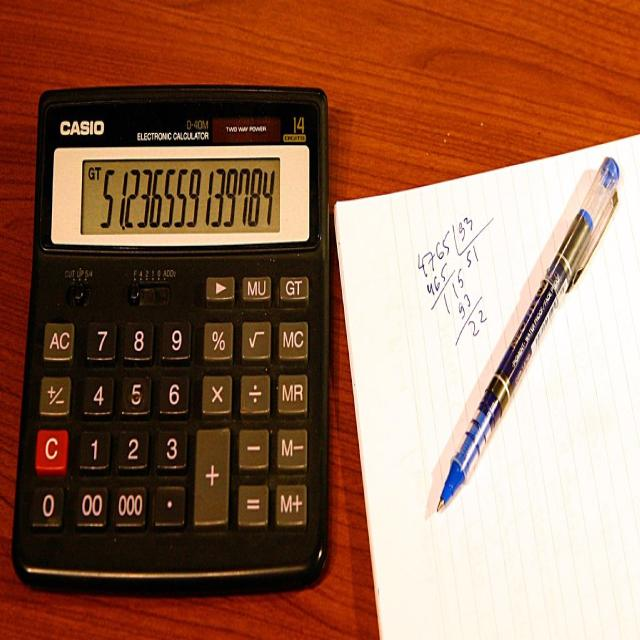Calculator: (12, 86, 326, 594)
